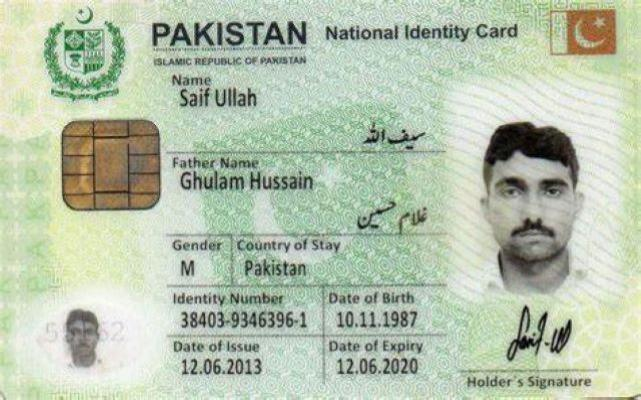fname: (177, 168, 317, 194)
name: (176, 86, 260, 109)
number: (176, 307, 312, 332)
